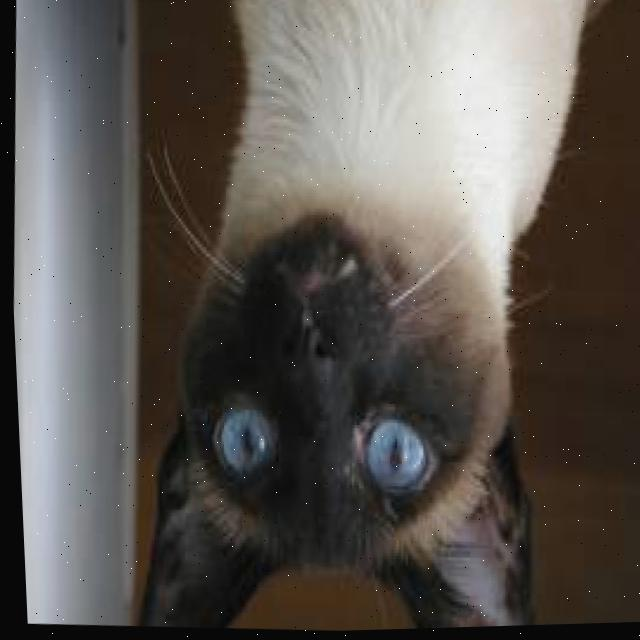Siamese: (97, 0, 640, 638)
